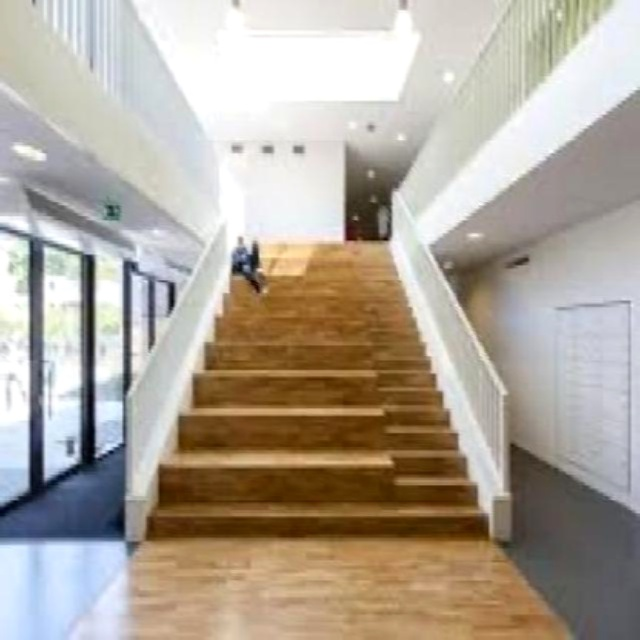stair: (145, 211, 485, 532)
